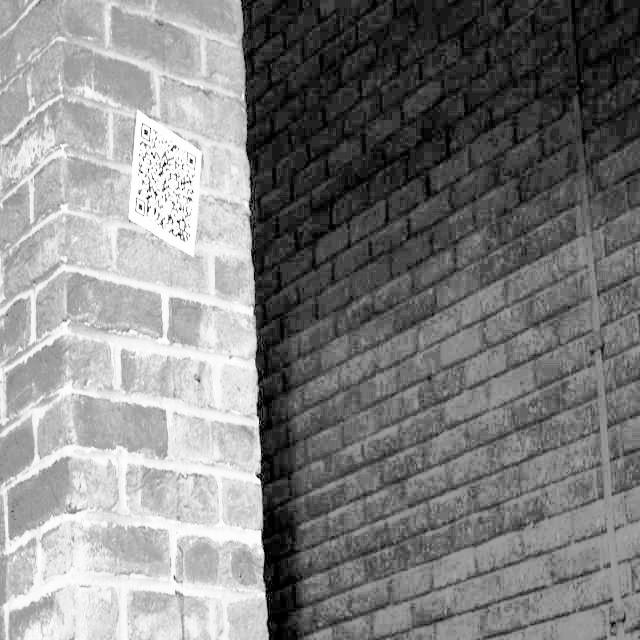qr_code: (135, 122, 196, 244)
